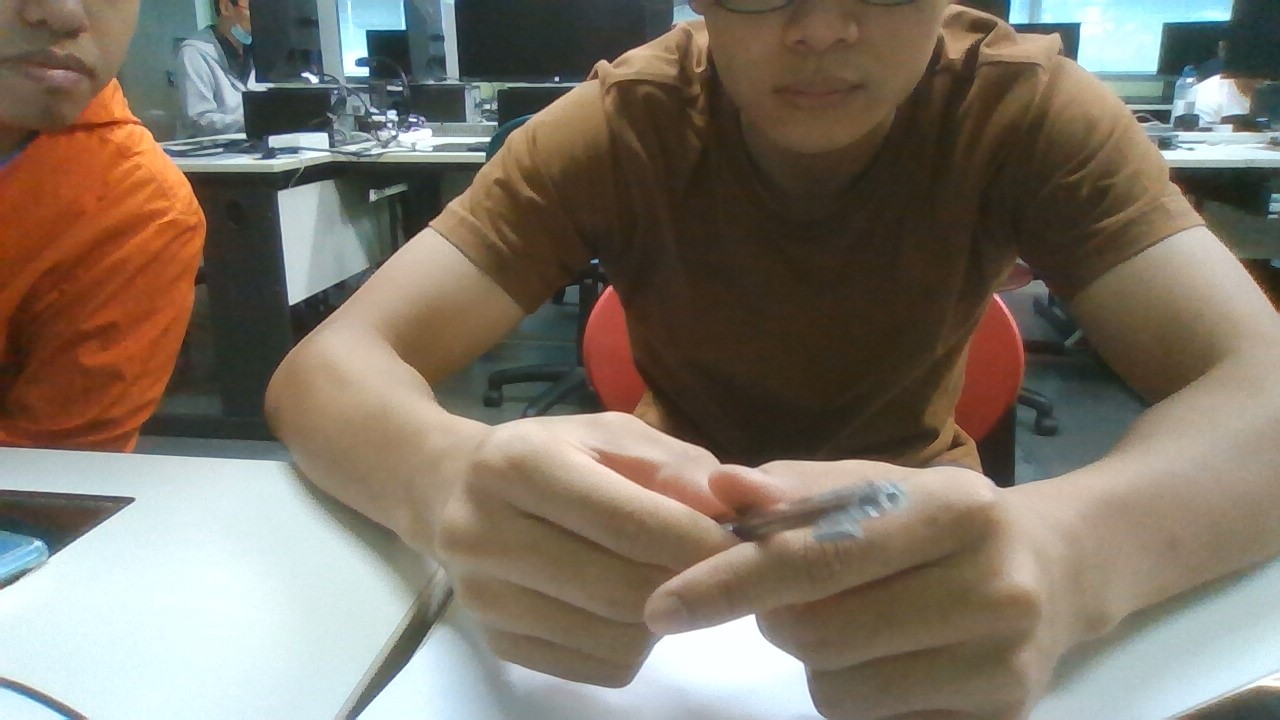pen: (630, 481, 906, 547)
